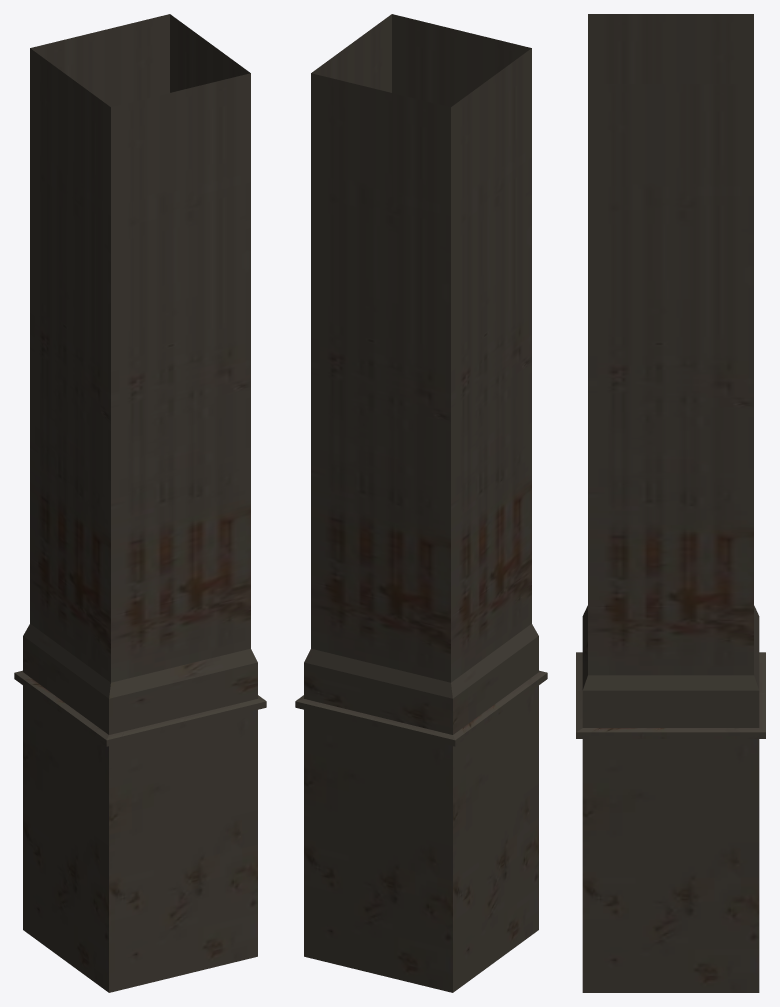
File: Metal_Column_Bottom.glb
3 renders of one model, left to right at view 1: azimuth 30°, elevation 25°; view 2: azimuth 150°, elevation 25°; view 3: azimuth 270°, elevation 25°, orthographic. The views are drawn at different scales.
Visible parts, largest first — view 1: Metal_Column_Bottom; view 2: Metal_Column_Bottom; view 3: Metal_Column_Bottom.
Boxes of the visible parts, box(x1,y1,x2,y2) form: Metal_Column_Bottom: box(14, 14, 266, 992); Metal_Column_Bottom: box(295, 14, 547, 992); Metal_Column_Bottom: box(576, 14, 765, 992).
Size of the model in its own units: 0.5689 by 3 by 0.5695.
1 material, 1 textured.
